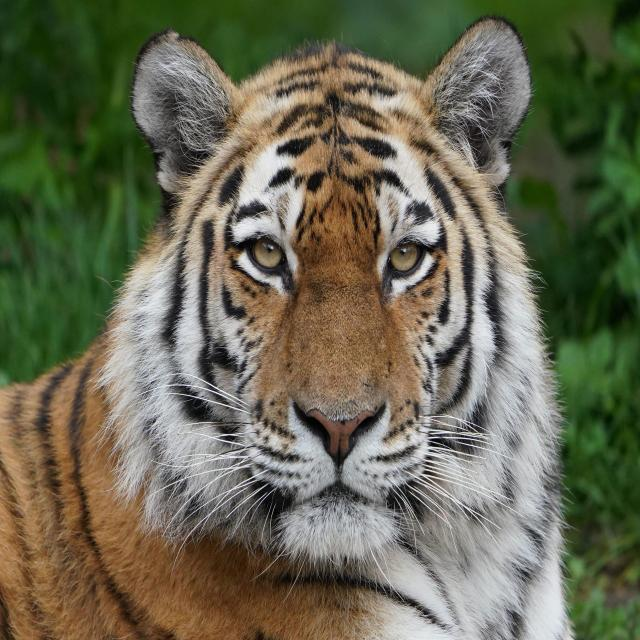Tiger: (0, 14, 578, 638)
